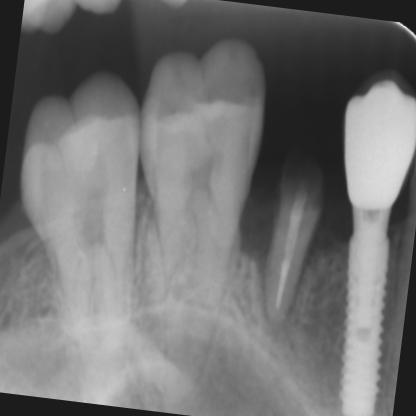ITI: (337, 232, 396, 416)
